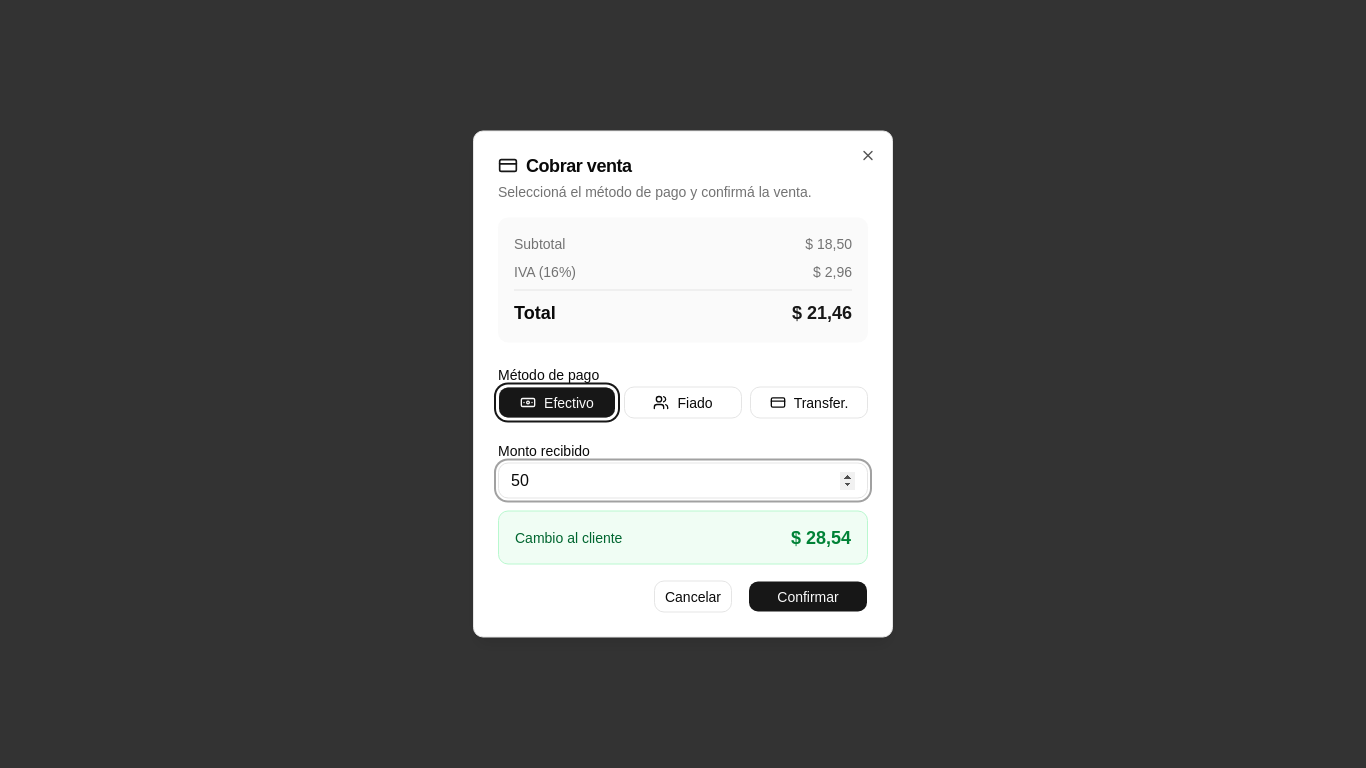
Test: PaymentDialog › habilita Confirmar cuando se selecciona cliente en fiado
Step 1. Click the button "Fiado" → (683, 402), box [624,386,742,418]
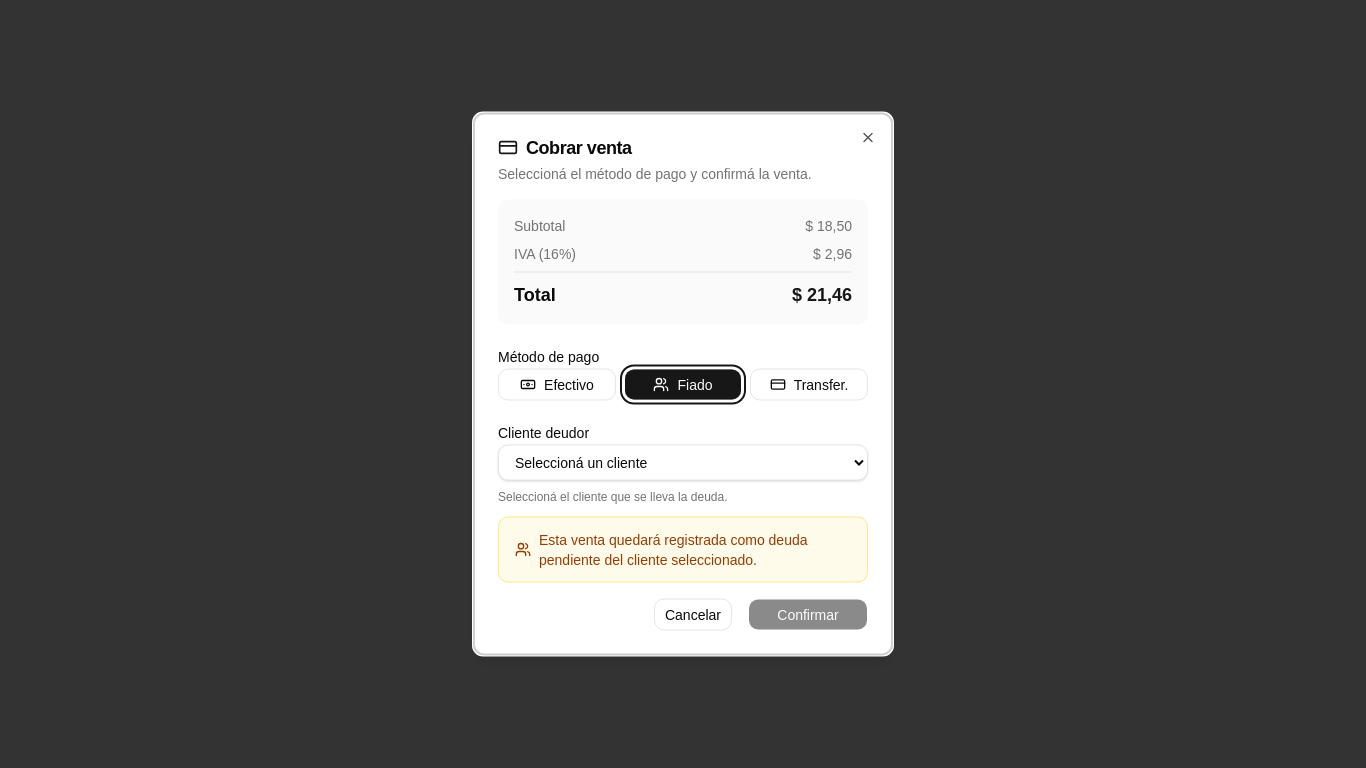
Step 2. Select "Juan Pérez — juan@test.com" in the dropdown labelled "Cliente deudor" → (683, 462), box [498,444,868,480]
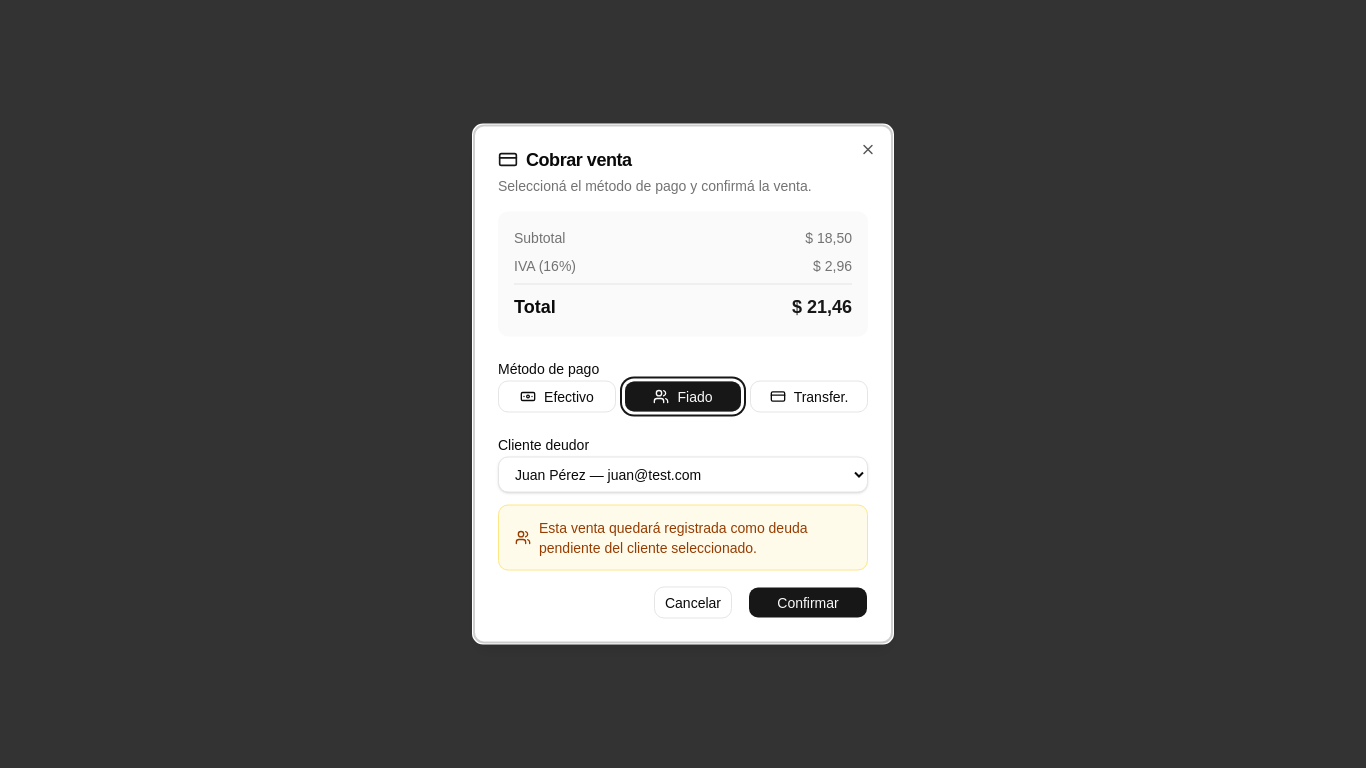
Result: the button "Confirmar" is enabled at [748,586,868,618]
